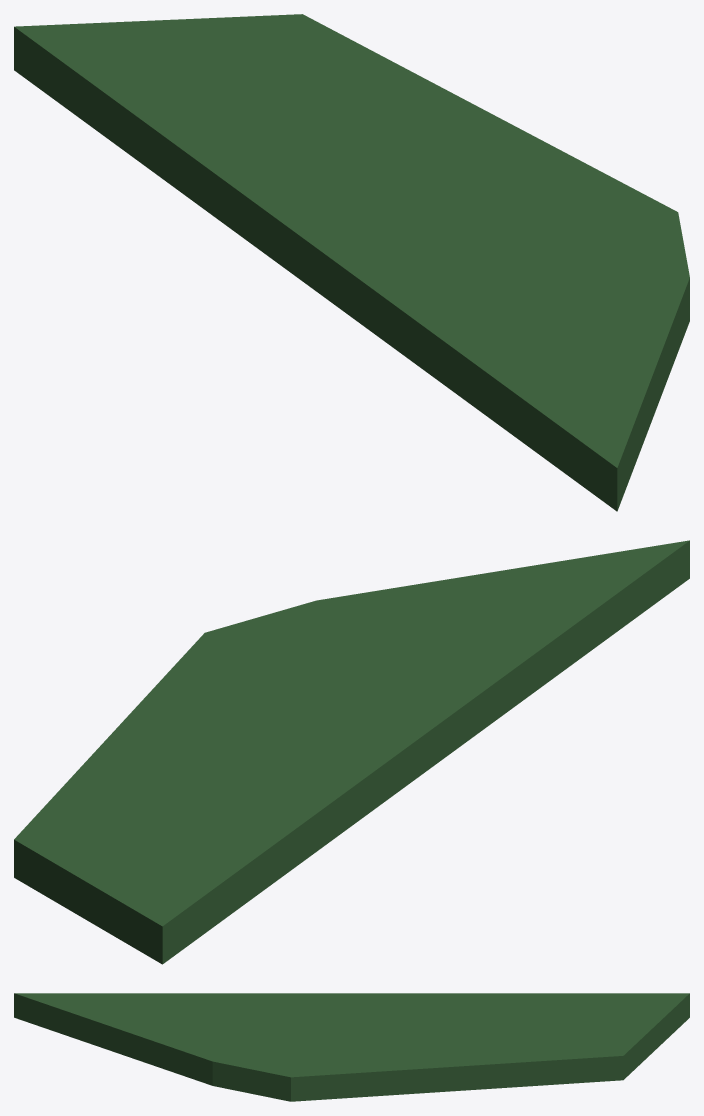
Rendered from x_proval_00_104_1_rmstrd.fbx.
The picture shows the model from 3 angles, top to bottom: view 1: azimuth 30°, elevation 25°; view 2: azimuth 150°, elevation 25°; view 3: azimuth 270°, elevation 25°; orthographic projection. The views are drawn at different scales.
Parts seen in each view (by area): view 1: x_proval_00_104_1_rmstrd1; view 2: x_proval_00_104_1_rmstrd1; view 3: x_proval_00_104_1_rmstrd1.
Part boxes in pixels (left/top/right/bottom): x_proval_00_104_1_rmstrd1: left=14, top=14, right=689, bottom=511; x_proval_00_104_1_rmstrd1: left=14, top=540, right=689, bottom=964; x_proval_00_104_1_rmstrd1: left=14, top=993, right=689, bottom=1101.
Bounding box in the file's own units: 1.48 × 0.2 × 5.01.
